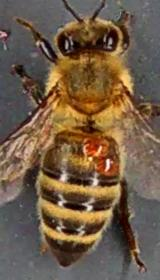varroa_mite: (88, 153, 126, 186), (80, 128, 114, 161)
